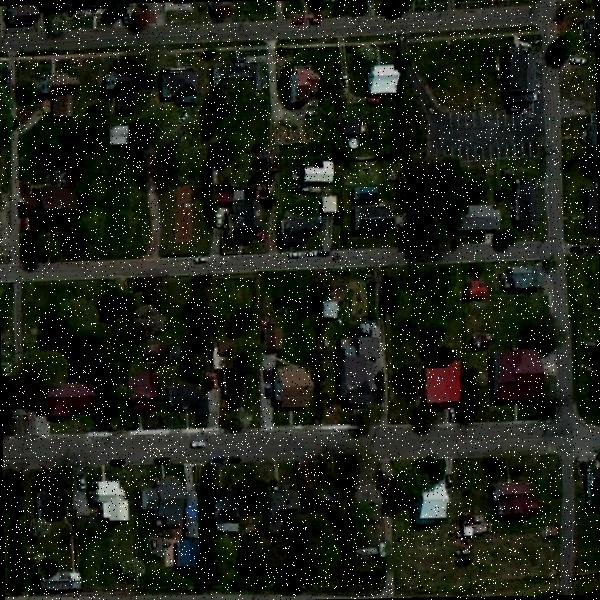Buildings: (490, 343, 542, 403), (339, 336, 379, 406), (18, 186, 72, 231), (352, 196, 392, 244), (223, 195, 260, 242), (501, 474, 534, 526), (369, 52, 401, 95), (512, 56, 538, 104), (278, 371, 310, 409), (148, 469, 177, 510), (431, 361, 460, 399), (164, 67, 195, 96), (286, 71, 316, 100), (284, 214, 320, 236), (108, 68, 131, 100)
